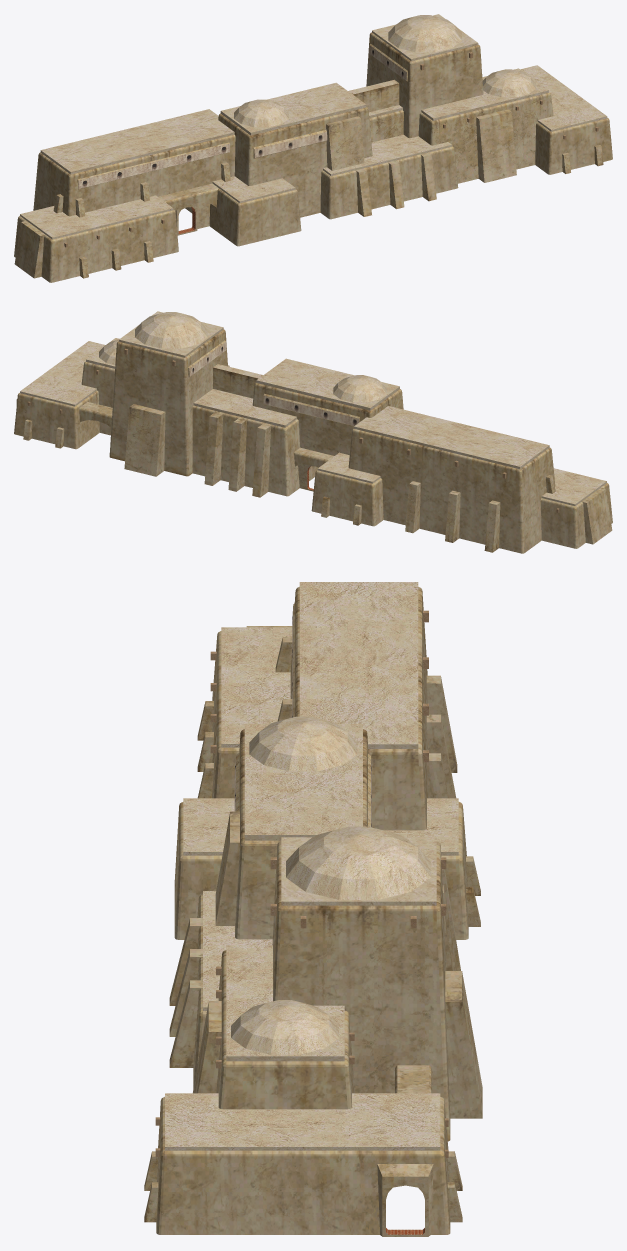
File: thm_tato_block_bldg_64x16_s01_r0_exterior_mesh_r0_l0.fbx
3 renders of one model, top to bottom at view 1: azimuth 30°, elevation 25°; view 2: azimuth 150°, elevation 25°; view 3: azimuth 270°, elevation 25°, orthographic. The views are drawn at different scales.
Visible parts, largest first — view 1: mesh_node; view 2: mesh_node; view 3: mesh_node.
Part boxes in pixels (box(x1,y1,x2,y2)): mesh_node: box(14, 14, 612, 282); mesh_node: box(14, 311, 612, 553); mesh_node: box(144, 582, 482, 1236).
Bounding box in the file's own units: 69.15 × 16.09 × 18.41.
